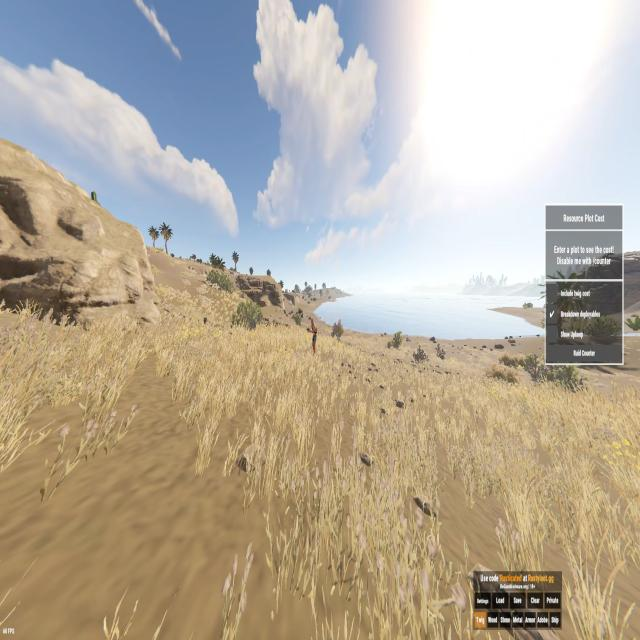Player: (308, 316, 318, 357)
